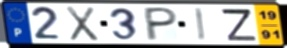2: (30, 4, 67, 43)
3: (108, 6, 144, 42)
I: (192, 6, 209, 43)
P: (144, 6, 180, 42)
X: (65, 5, 101, 42)
Z: (218, 7, 259, 42)
